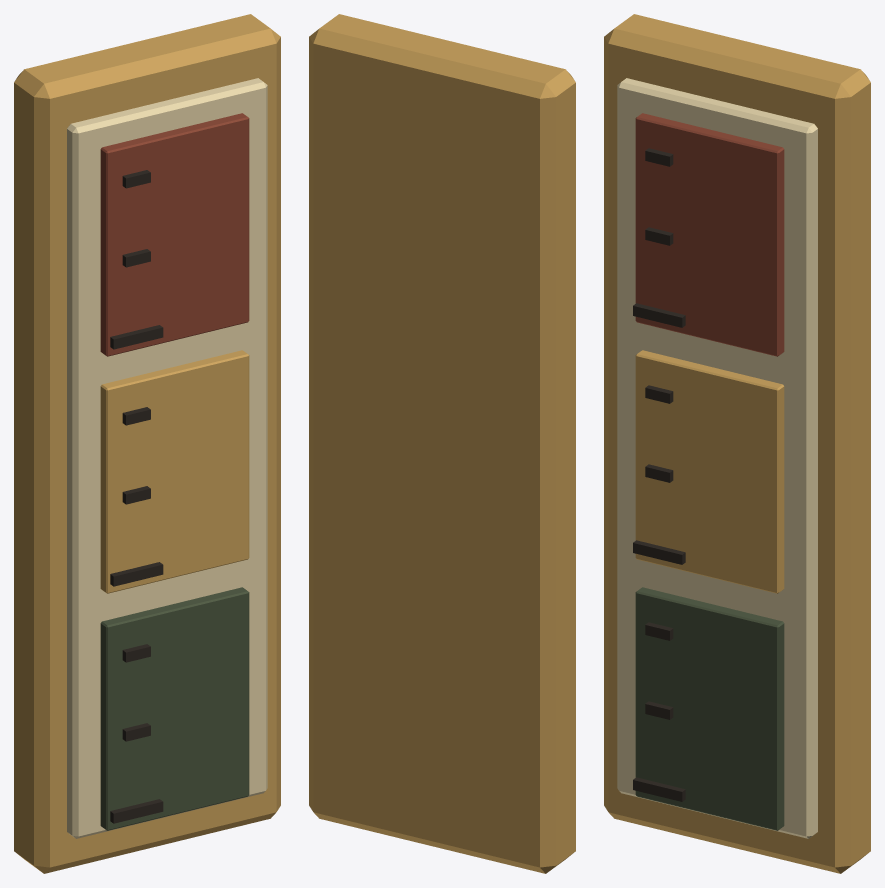
File: indicator_board_03.glb
The picture shows the model from 3 angles, left to right: view 1: azimuth 30°, elevation 25°; view 2: azimuth 150°, elevation 25°; view 3: azimuth 330°, elevation 25°; orthographic projection.
Parts seen in each view (by area): view 1: Frame, Face, Level_2, Level_0, Level_1, Graduation_06, Graduation_00, Graduation_03; view 2: Frame; view 3: Frame, Face, Level_2, Level_0, Level_1, Graduation_03, Graduation_00, Graduation_06.
Part boxes in pixels (left/top/right/bottom): Frame: left=14, top=14, right=280, bottom=873; Face: left=67, top=78, right=267, bottom=838; Level_2: left=100, top=113, right=249, bottom=356; Level_0: left=100, top=587, right=249, bottom=830; Level_1: left=100, top=350, right=249, bottom=593; Graduation_06: left=110, top=325, right=163, bottom=349; Graduation_00: left=110, top=799, right=163, bottom=823; Graduation_03: left=110, top=562, right=163, bottom=586; Frame: left=309, top=14, right=575, bottom=873; Frame: left=604, top=14, right=870, bottom=873; Face: left=617, top=78, right=817, bottom=838; Level_2: left=635, top=113, right=784, bottom=356; Level_0: left=635, top=587, right=784, bottom=830; Level_1: left=635, top=350, right=784, bottom=593; Graduation_03: left=633, top=540, right=685, bottom=564; Graduation_00: left=633, top=777, right=685, bottom=801; Graduation_06: left=633, top=303, right=685, bottom=327.
Size of the model in its own units: 0.36 by 1.1 by 0.1295.
